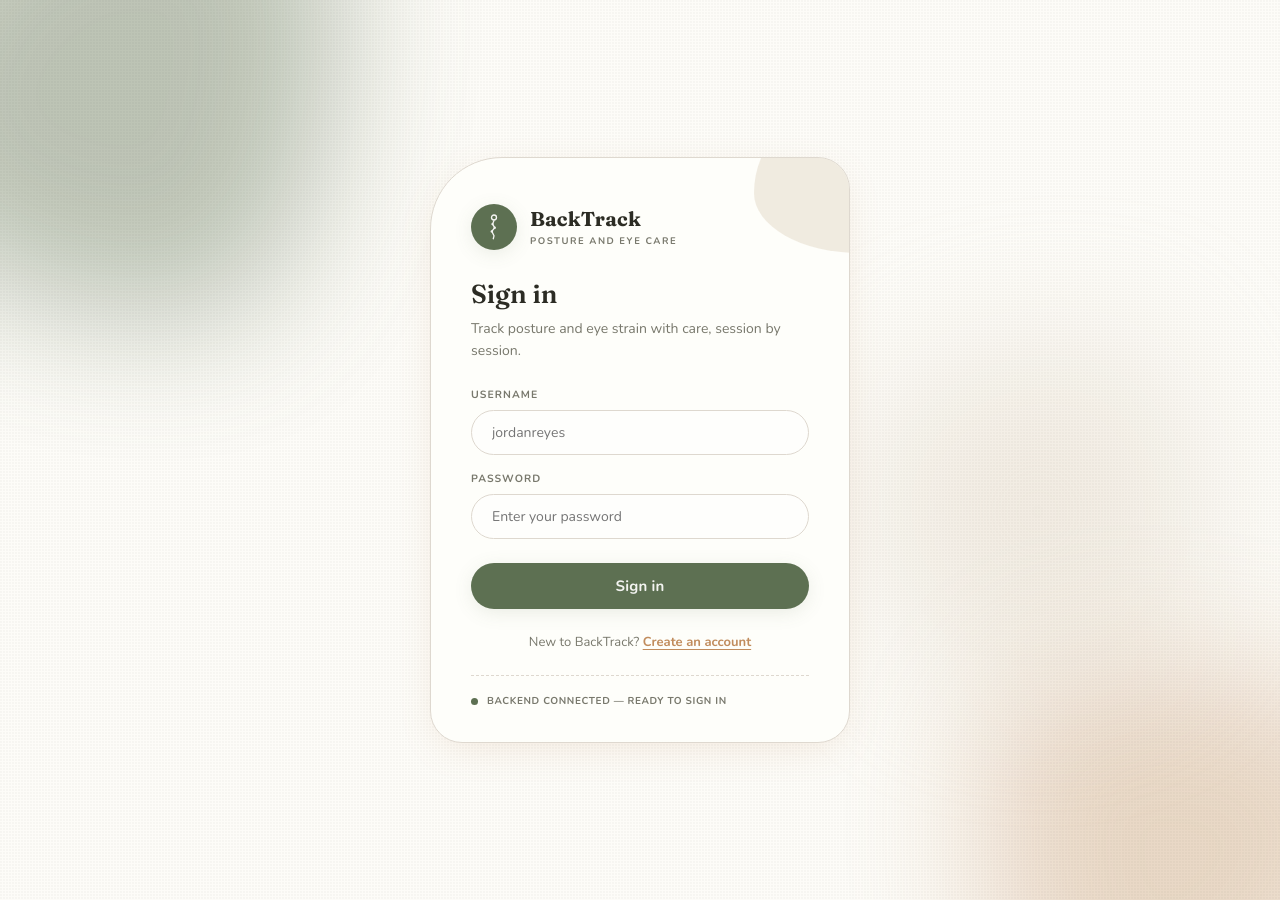
Test: App › shows the name field only when creating an account
Expected: the field labelled "Full name" is not shown
Click the button "Create an account" at (697, 642), box [643,633,751,651]
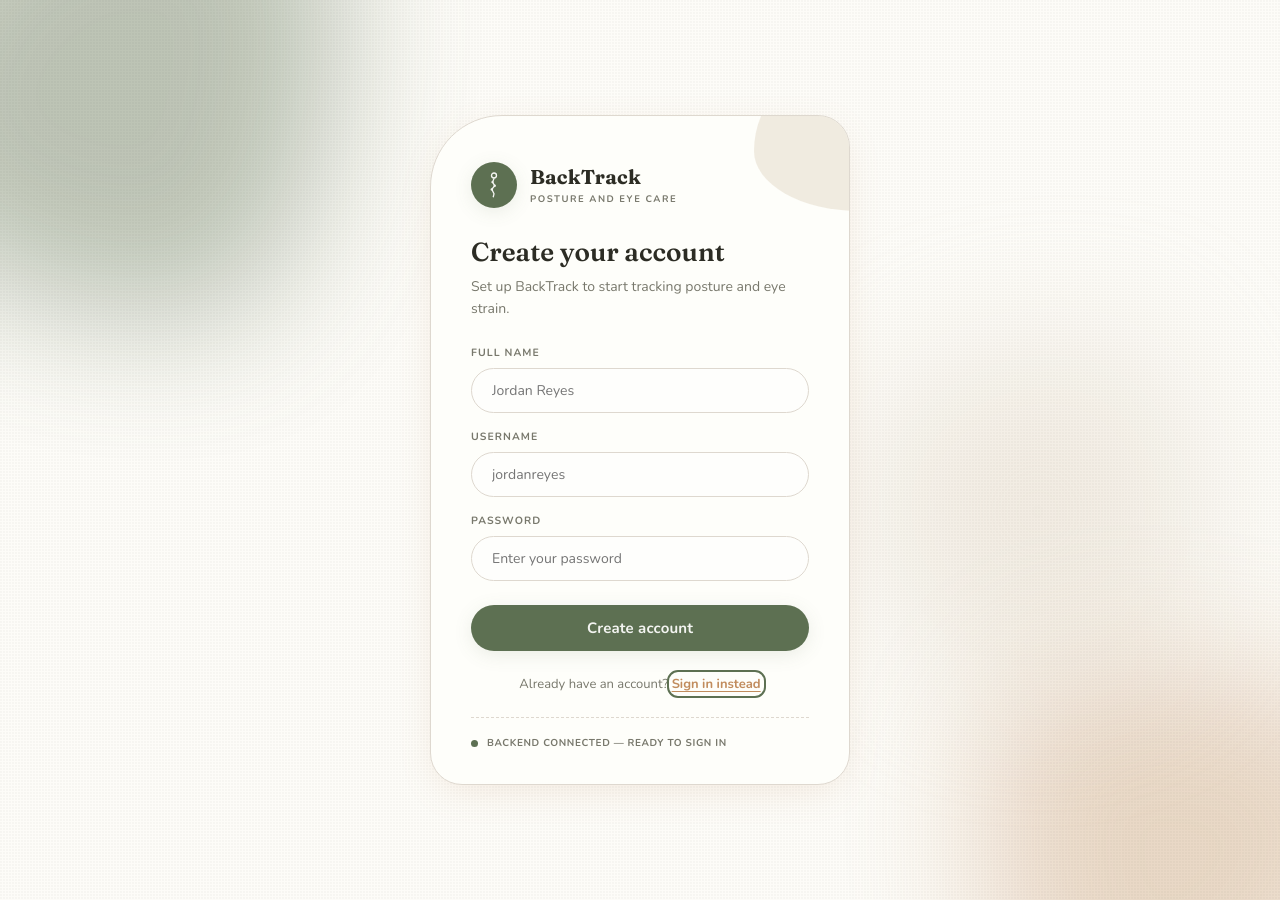
Now the field labelled "Full name" is shown, box [471,368,809,413]
